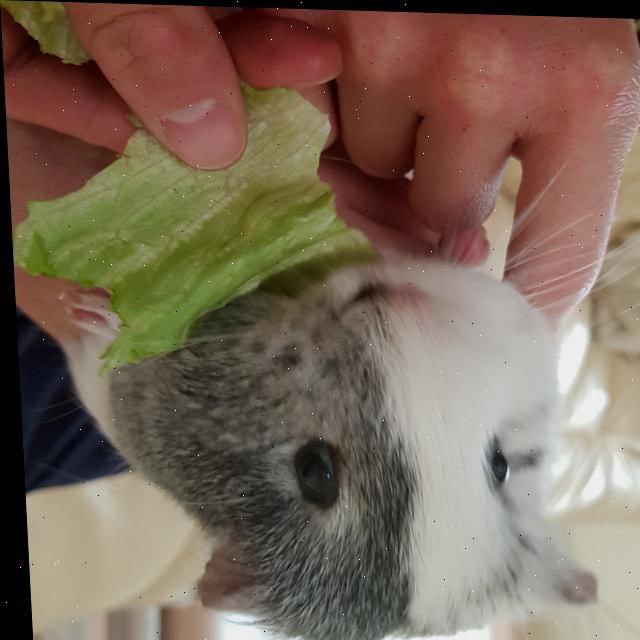guinea pig: (54, 240, 598, 640)
